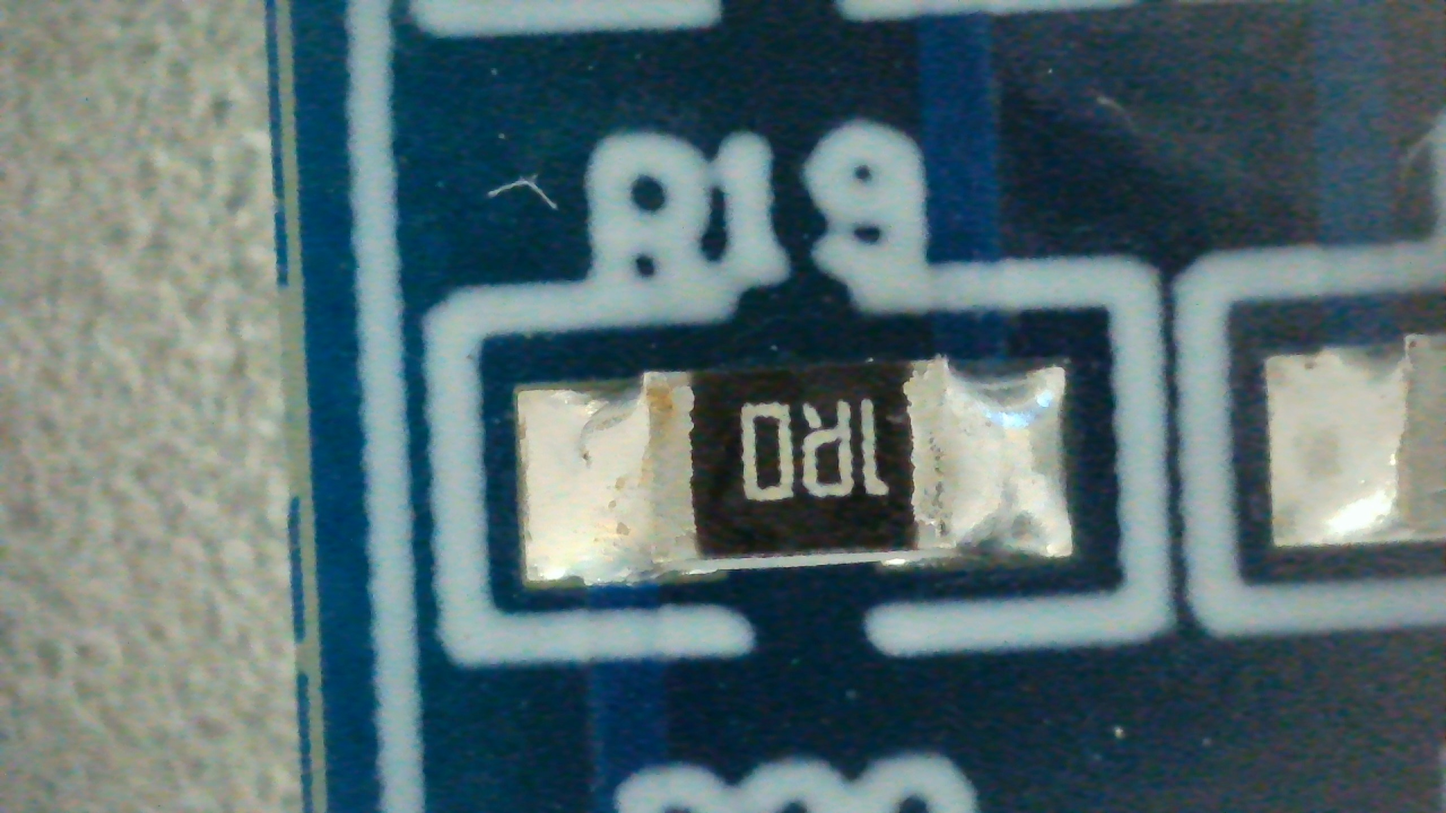OK: (517, 357, 1073, 580)
